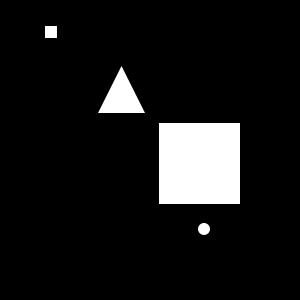circle: (159, 123, 240, 204), (45, 26, 57, 38)
rectangle: (198, 223, 210, 235)
triangle: (98, 66, 145, 113)
